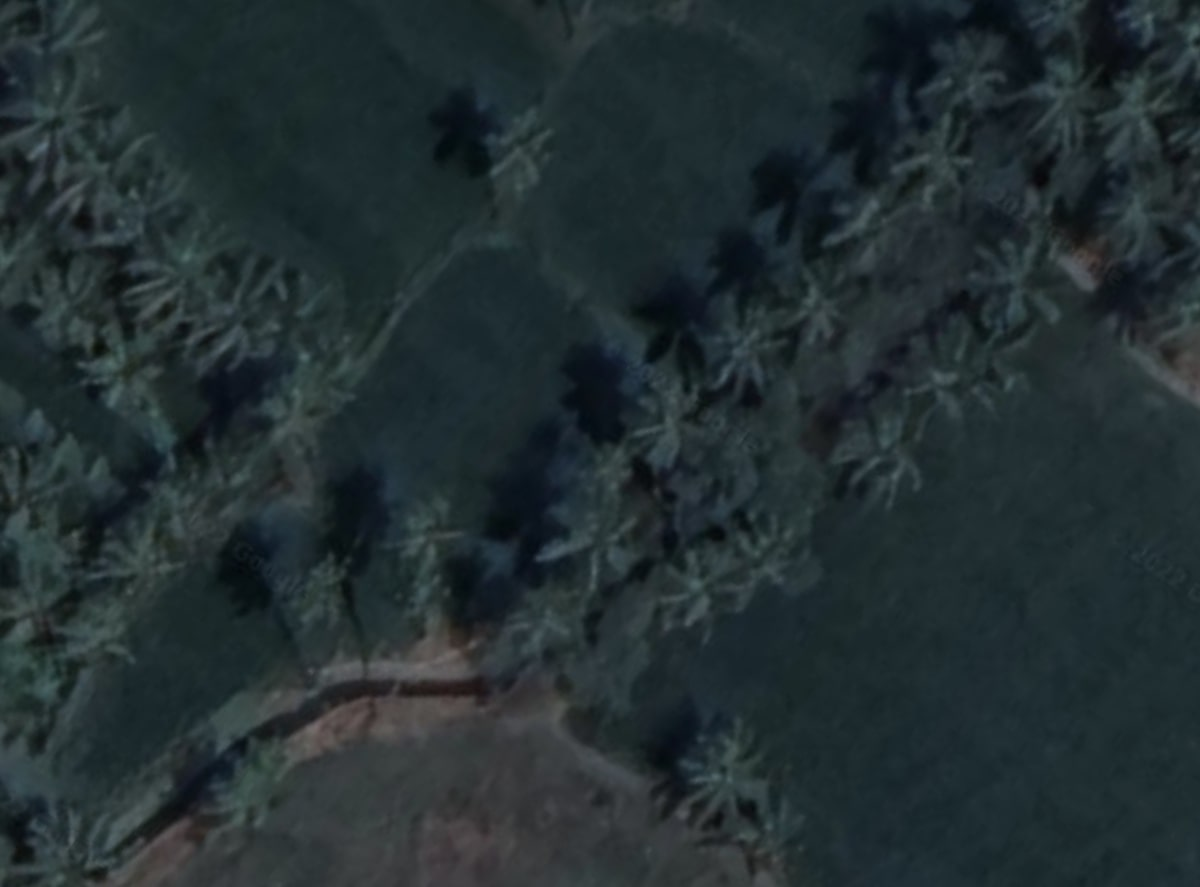coconut: (686, 279, 788, 412), (657, 713, 777, 826), (179, 733, 298, 843), (0, 71, 107, 186), (833, 394, 934, 514), (707, 502, 807, 619), (532, 491, 649, 589), (594, 370, 700, 478), (204, 268, 320, 366), (894, 317, 1001, 421), (126, 224, 231, 329), (744, 268, 858, 362), (912, 24, 1011, 131), (973, 237, 1067, 335), (878, 106, 969, 206), (818, 184, 906, 283), (466, 99, 557, 190), (1095, 65, 1170, 161), (1024, 62, 1098, 153), (667, 549, 732, 645)
